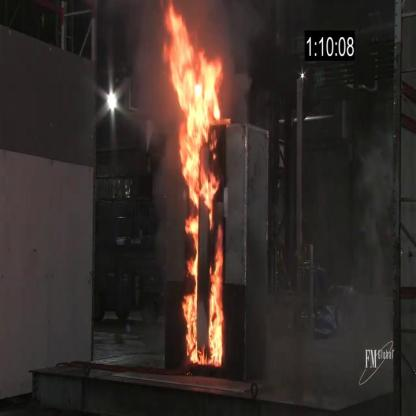fire: (156, 0, 235, 373)
